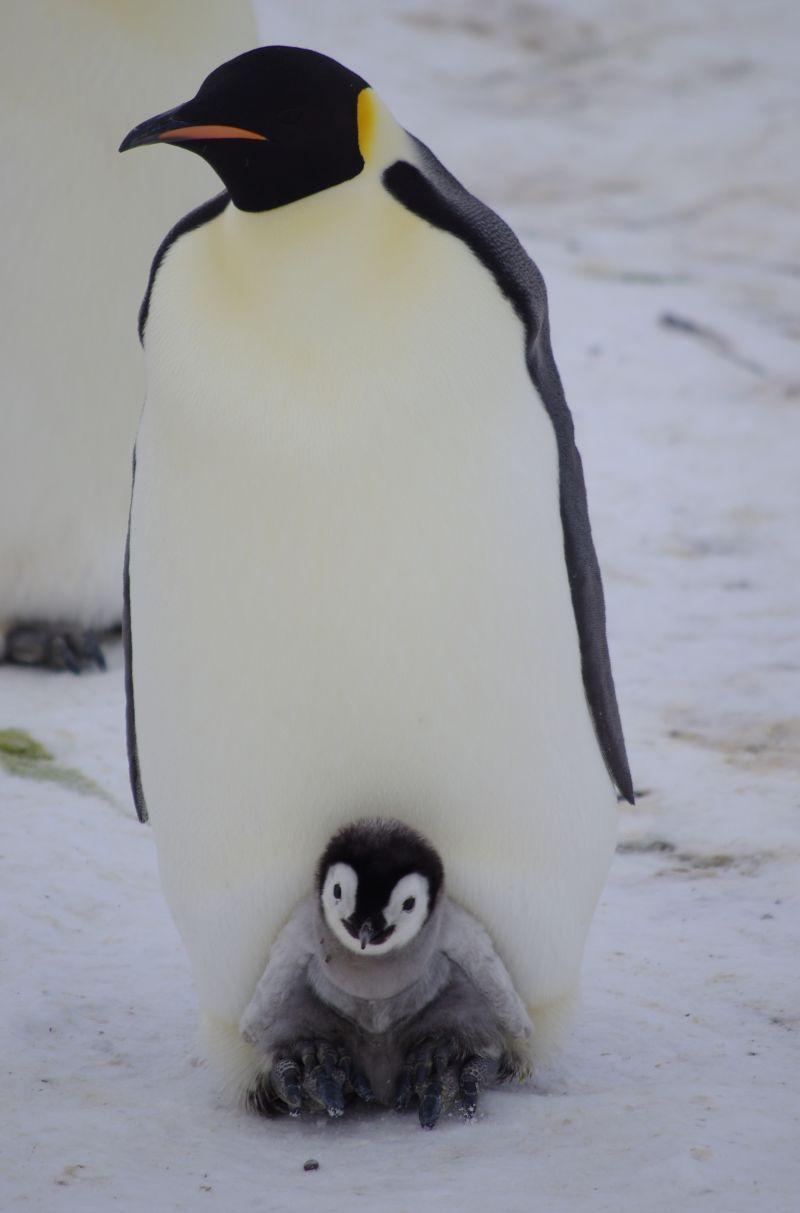emporer: (58, 25, 689, 1106)
